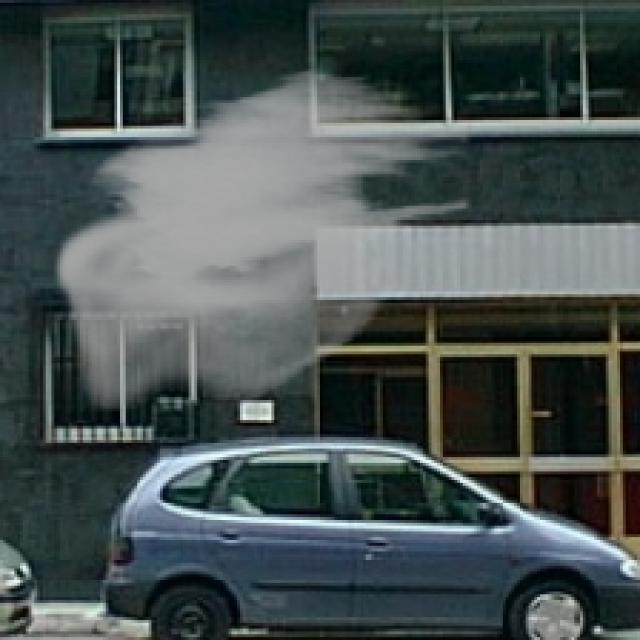smoke: (54, 66, 472, 411)
